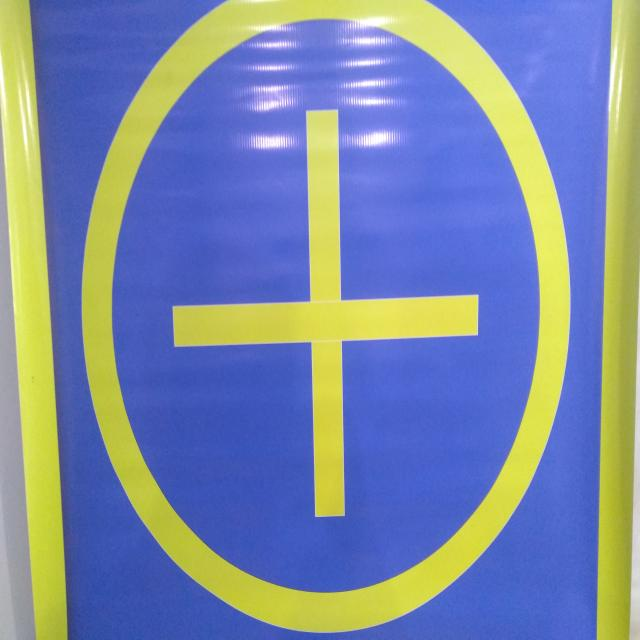circulo-com-sinal-positivo: (2, 2, 638, 640)
